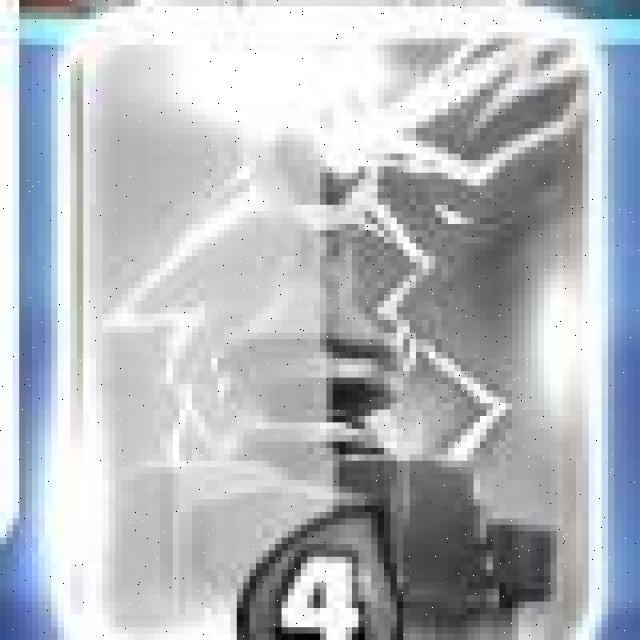Evolved_Tesla: (69, 11, 614, 640)
